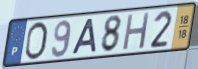2: (148, 9, 173, 50)
8: (100, 14, 123, 54)
9: (50, 19, 73, 59)
A: (70, 18, 98, 56)
H: (121, 11, 152, 53)
O: (23, 20, 49, 62)
